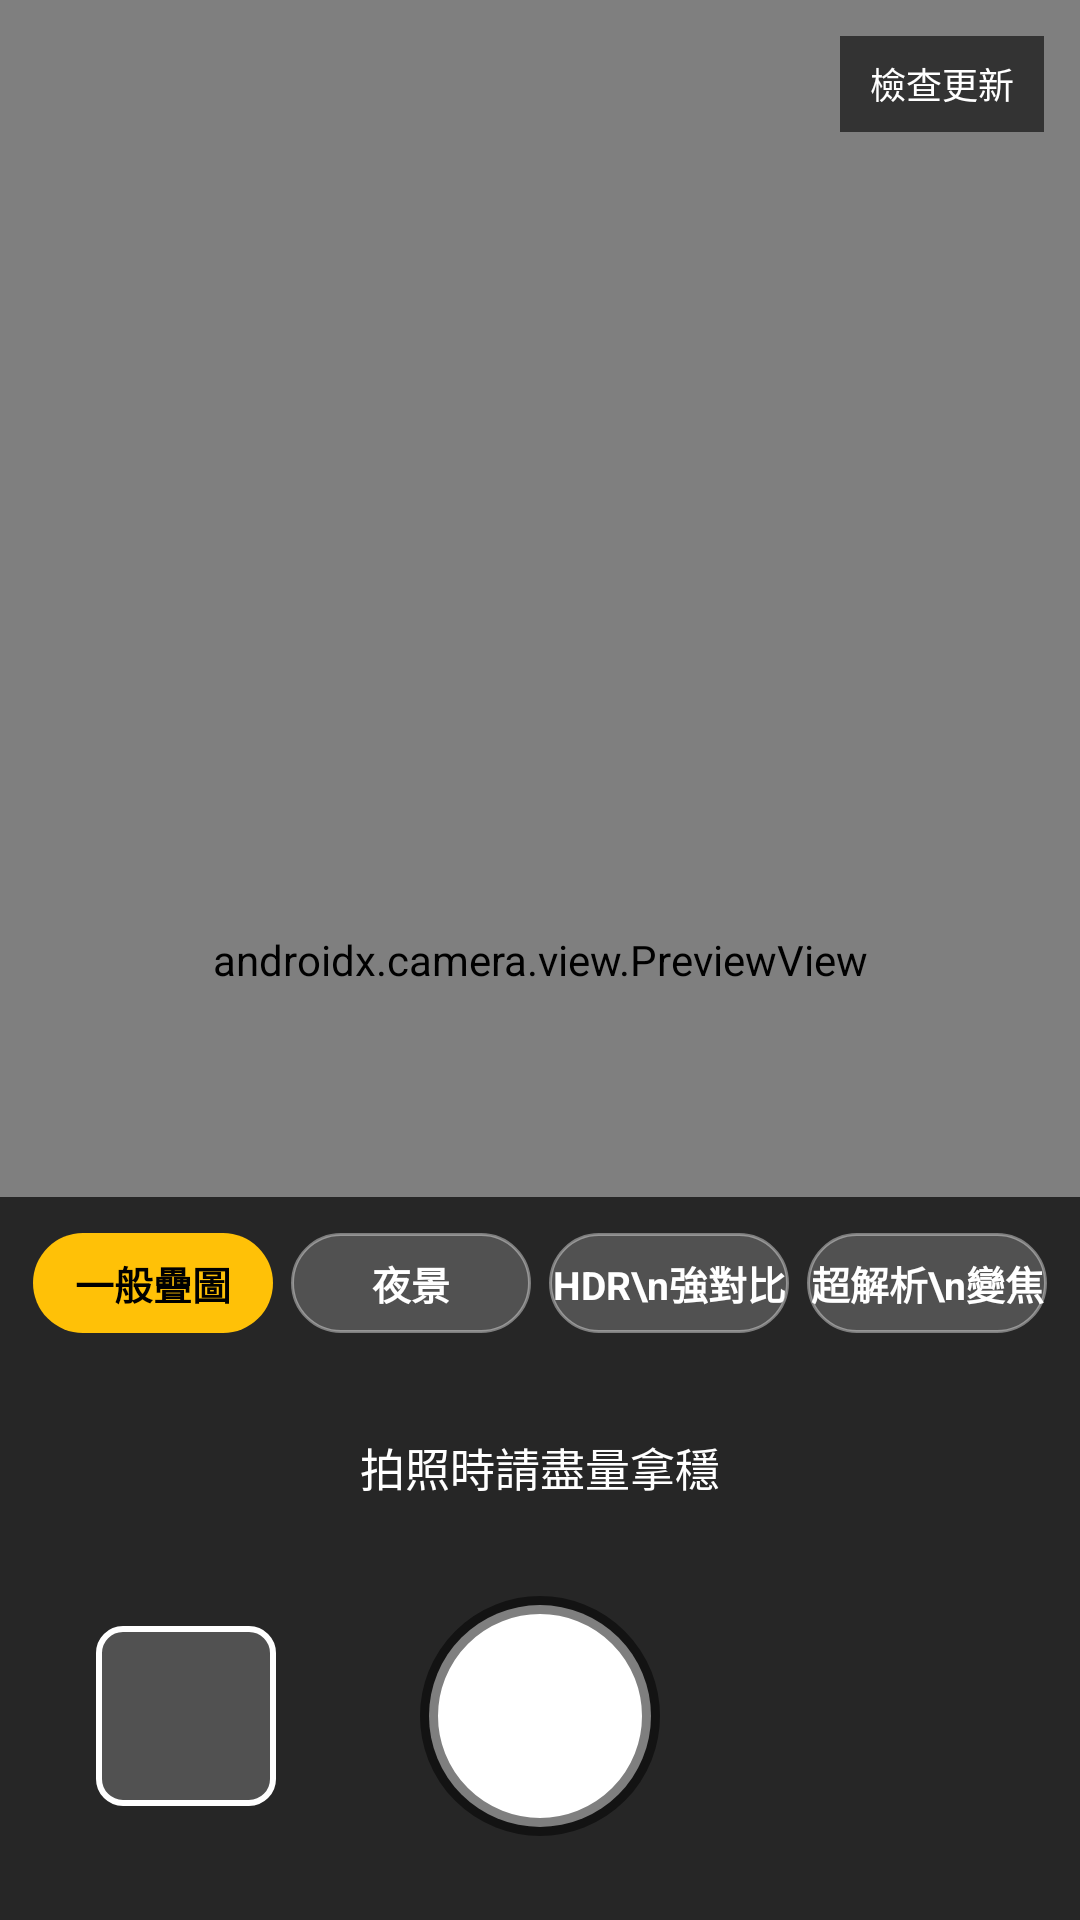

Screen size 1080px×1920px. Icon name, then its box in pixels as box(x1, y1, x2, y2):
快門: box(429, 1605, 651, 1827)
